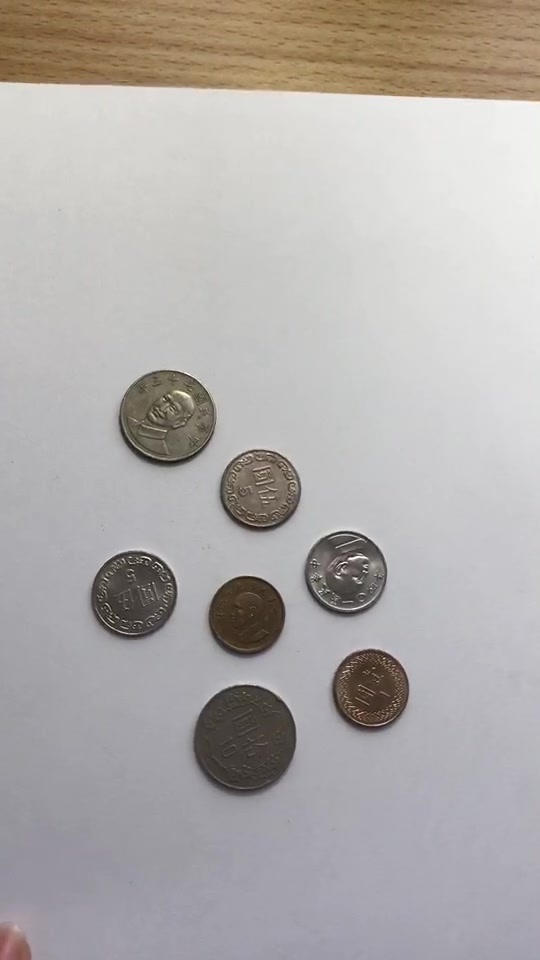1 dallar: (199, 569, 291, 665), (327, 636, 419, 732)
10 dallar: (185, 678, 297, 803), (108, 358, 216, 471)
5 dallar: (78, 541, 187, 647), (201, 435, 310, 541), (295, 516, 404, 622)
